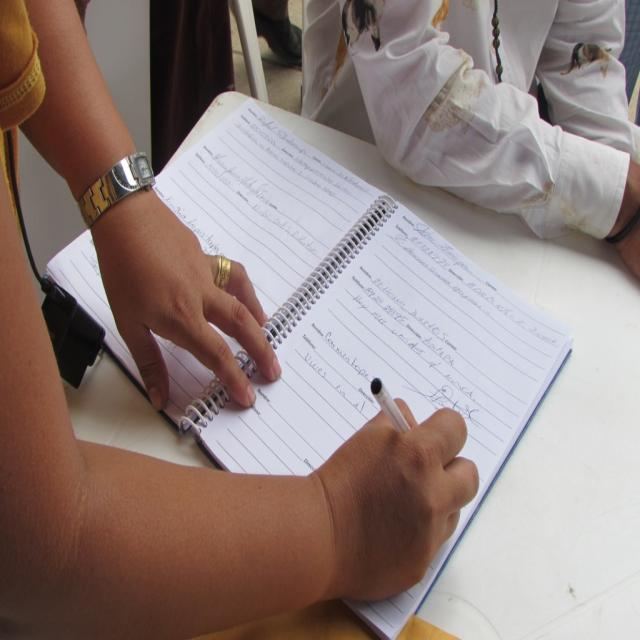pen: (369, 376, 408, 434)
